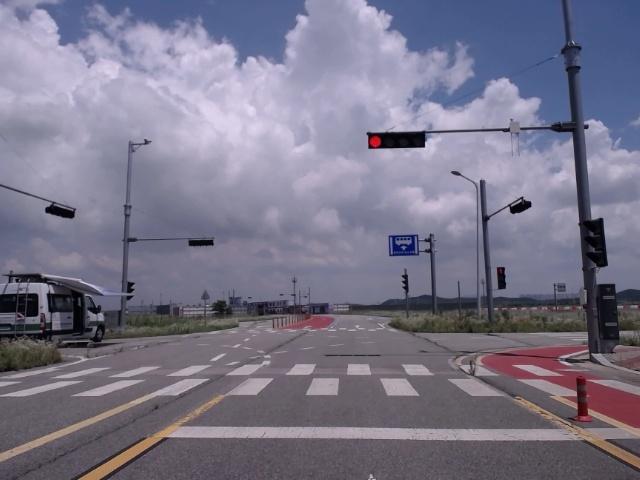red_4: (367, 131, 425, 149)
